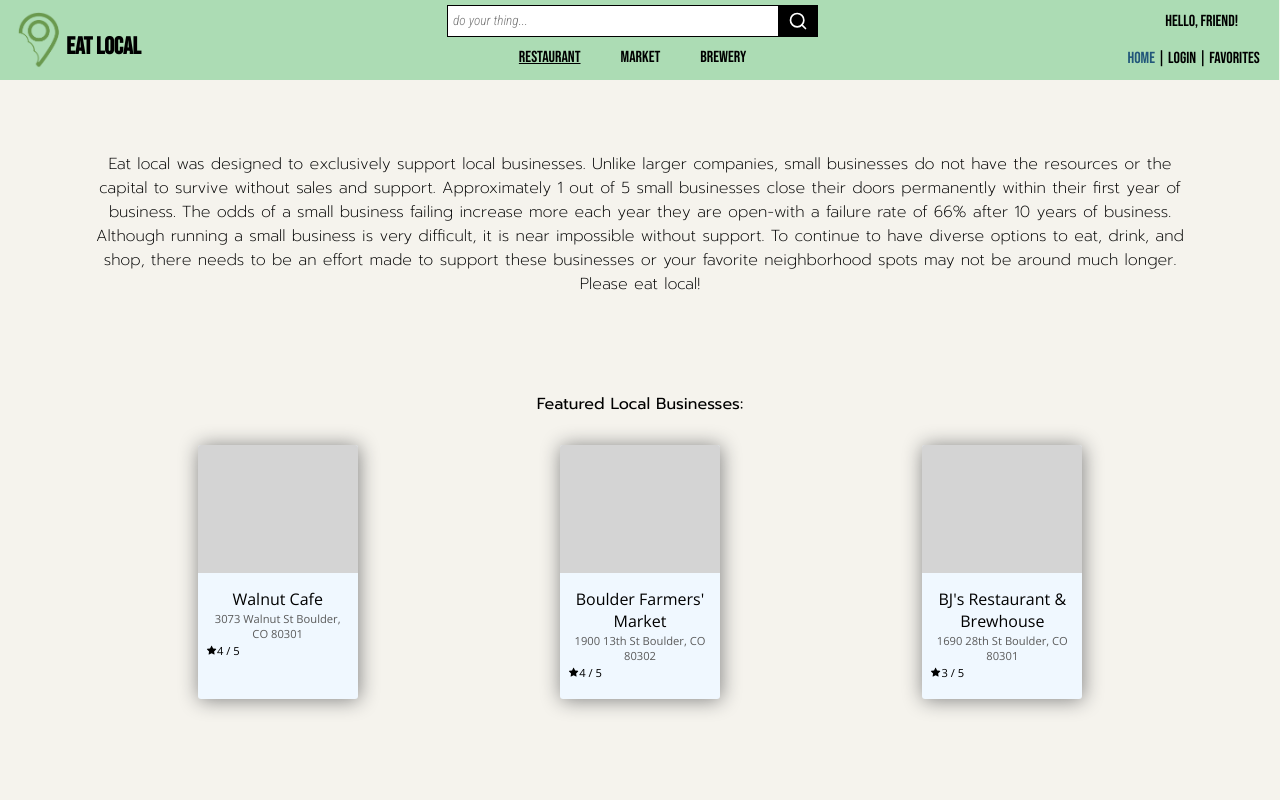
Scenario: Results Page › can search for a restaurant and see results
Type "Denver" into the field with test id "search" showing "do your thing..." at (613, 21), box x1=447 y1=5 x2=778 y2=37
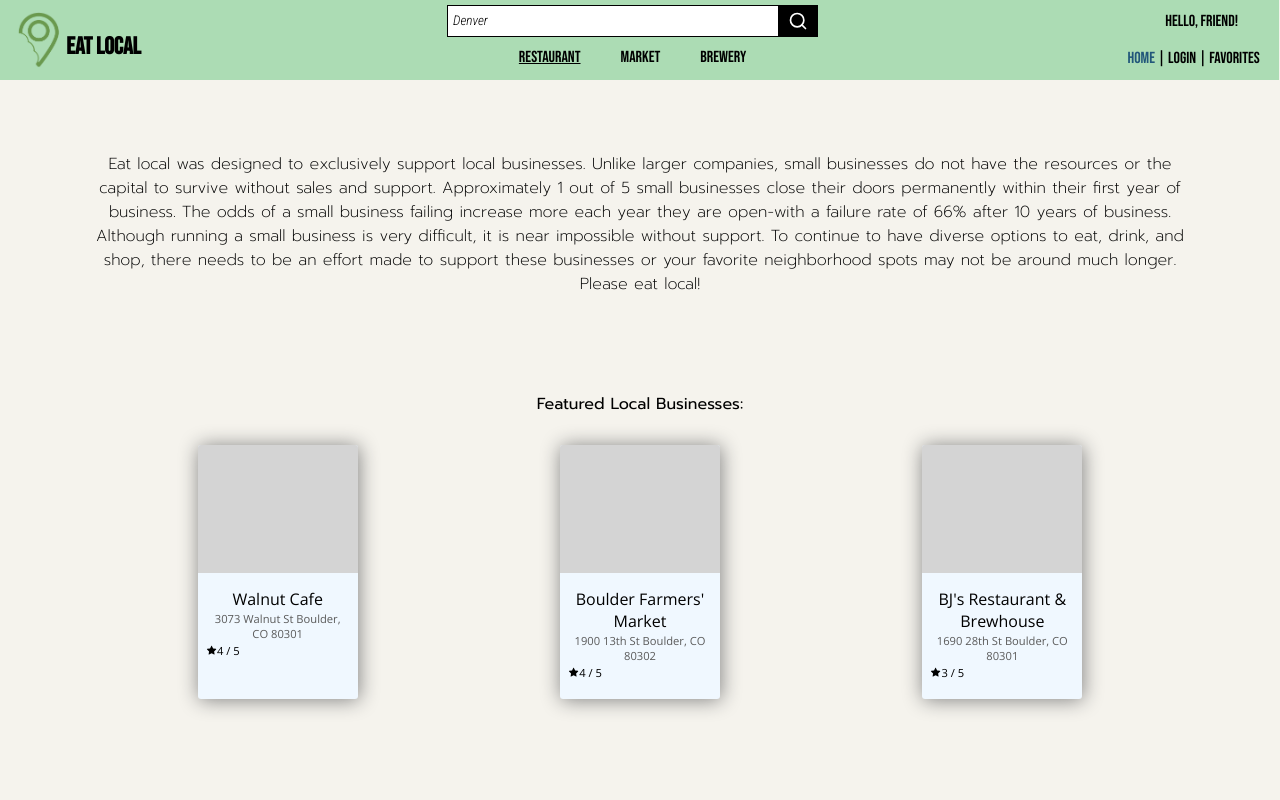
Click the button with test id "submit" at (798, 21), box x1=778 y1=5 x2=818 y2=37
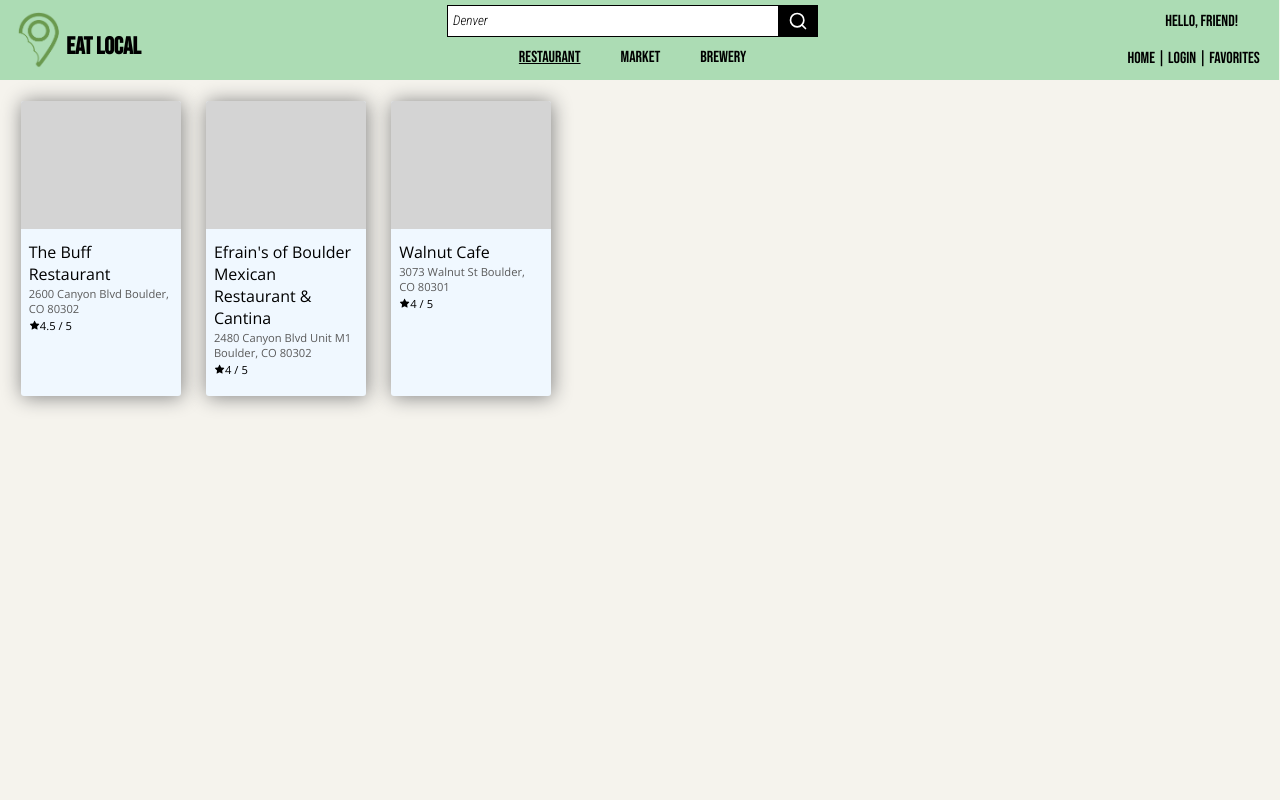
Expected: the text with test id "business-card" reads "The Buff Restaurant", x1=29 y1=241 x2=111 y2=285
Expected: the text with test id "business-card" reads "2600 Canyon Blvd Boulder, CO 80302", x1=29 y1=286 x2=173 y2=316
Expected: the text with test id "business-card" reads "4.5 / 5", x1=40 y1=318 x2=72 y2=333
